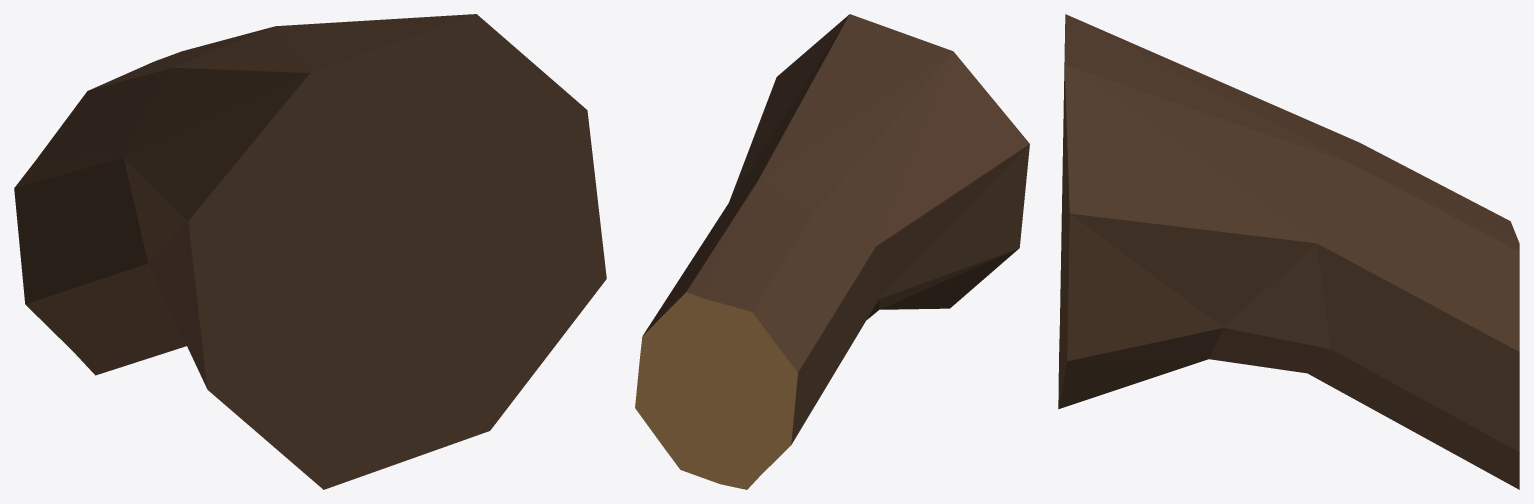
Rendered from stump01b.fbx.
3 renders of one model, left to right at view 1: azimuth 30°, elevation 25°; view 2: azimuth 150°, elevation 25°; view 3: azimuth 270°, elevation 25°, orthographic. The views are drawn at different scales.
Visible parts, largest first — view 1: Tree; view 2: Tree; view 3: Tree.
Boxes of the visible parts, x1=… form: Tree: x1=14, y1=14, x2=606, y2=489; Tree: x1=635, y1=14, x2=1029, y2=489; Tree: x1=1058, y1=14, x2=1519, y2=489.
Bounding box in the file's own units: 0.8339 × 1.01 × 0.9699.
